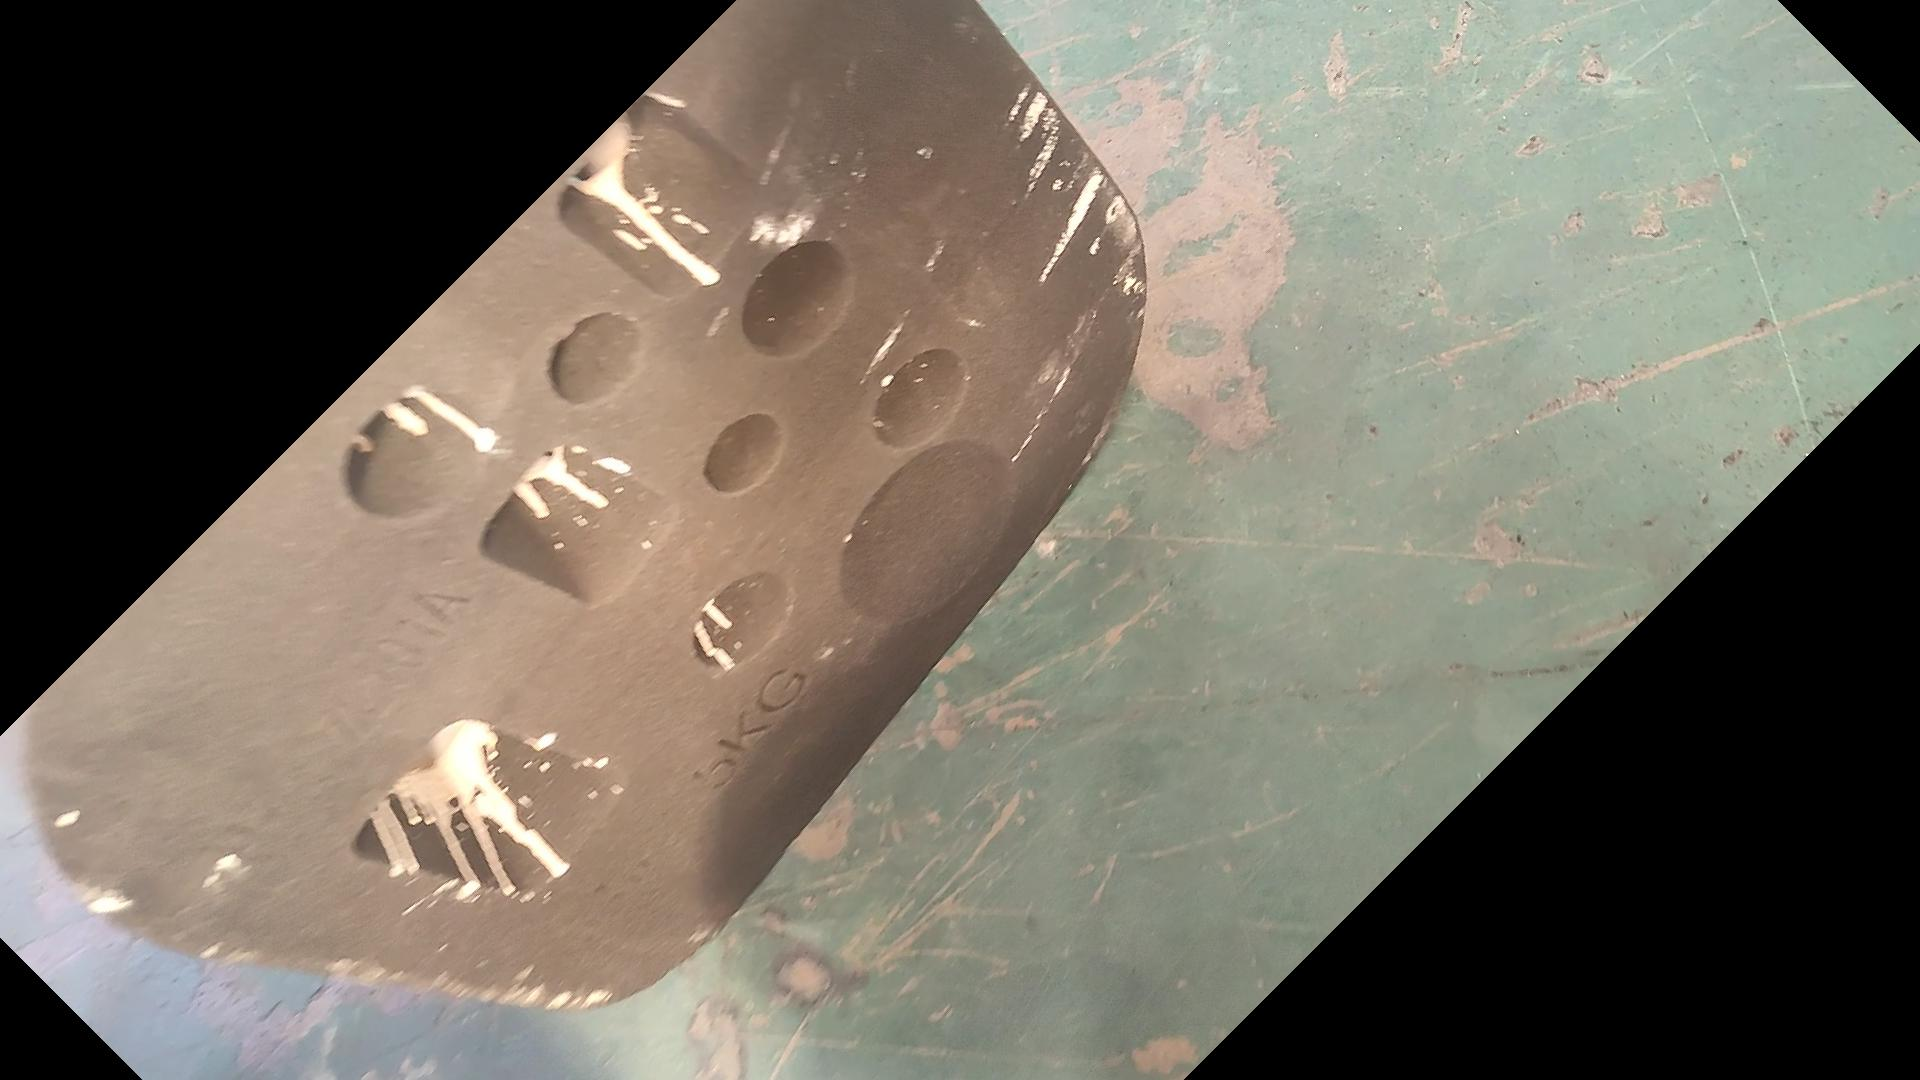pouring hole: (837, 439, 1015, 621)
